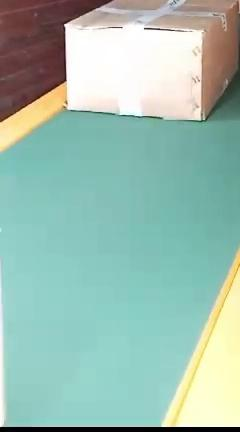box: (66, 0, 238, 120)
